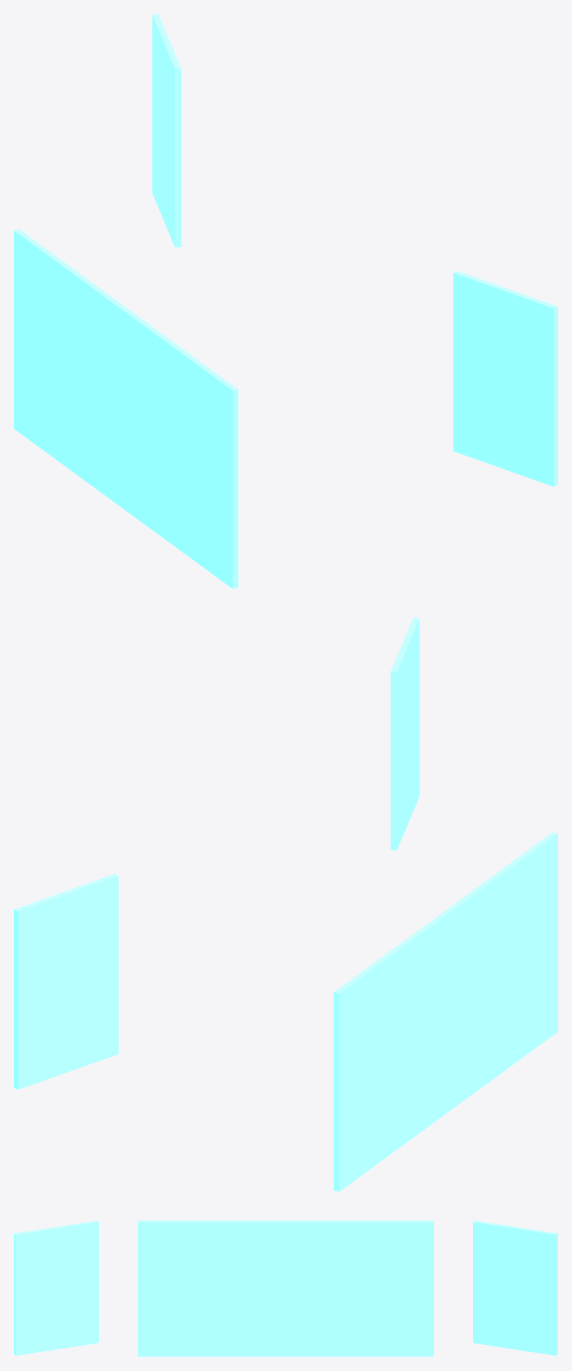
File: SM_Arena_Main_Stage_Video.fbx
3 views of the same model, one above another, from view 1: azimuth 30°, elevation 25°; view 2: azimuth 150°, elevation 25°; view 3: azimuth 270°, elevation 25° (orthographic). The views are drawn at different scales.
Visible parts, largest first — view 1: SM_Arena_Main_Stage_Video; view 2: SM_Arena_Main_Stage_Video; view 3: SM_Arena_Main_Stage_Video.
Boxes of the visible parts, x1,y1,x2,y2 form: SM_Arena_Main_Stage_Video: [14, 14, 557, 588]; SM_Arena_Main_Stage_Video: [14, 617, 557, 1191]; SM_Arena_Main_Stage_Video: [14, 1220, 557, 1356].
Size of the model in its own units: 1242 by 1470 by 3674.
